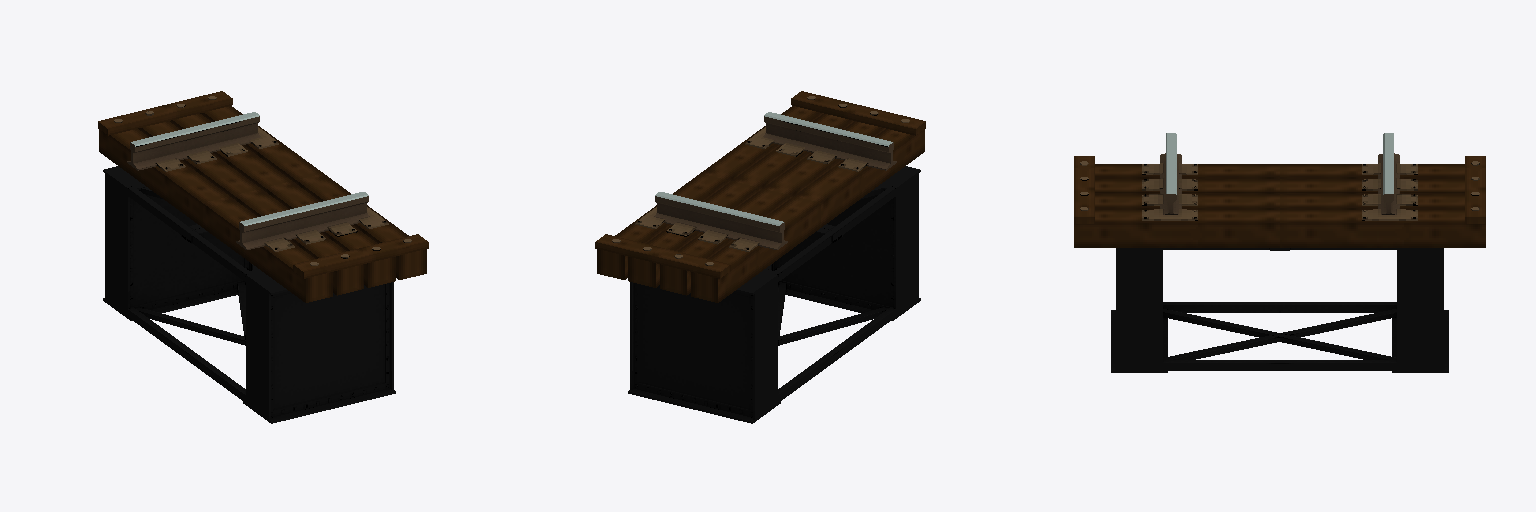
The picture shows the model from 3 angles: view 1: azimuth 30°, elevation 25°; view 2: azimuth 150°, elevation 25°; view 3: azimuth 270°, elevation 25°; orthographic projection.
Parts seen in each view (by area): view 1: RAIL_BASE_Cube.001, RAIL_BASE.001, RAIL_RIGHT_Cube.010, RAIL_LEFT_Cube.002, RAIL_BASE.003_Cube.004, RAIL_BASE.005_Cube.003, RAIL_BASE.002_Cube.005; view 2: RAIL_BASE_Cube.001, RAIL_BASE.001, RAIL_LEFT_Cube.002, RAIL_RIGHT_Cube.010, RAIL_BASE.003_Cube.004, RAIL_BASE.005_Cube.003, RAIL_BASE.002_Cube.005; view 3: RAIL_BASE.001, RAIL_BASE_Cube.001, RAIL_BASE.003_Cube.004, RAIL_BASE.005_Cube.003, RAIL_BASE.002_Cube.005, RAIL_LEFT_Cube.002, RAIL_RIGHT_Cube.010.
Boxes of the visible parts, x1=… form: RAIL_BASE_Cube.001: x1=103, y1=166, x2=395, y2=423; RAIL_BASE.001: x1=98, y1=91, x2=428, y2=302; RAIL_RIGHT_Cube.010: x1=127, y1=112, x2=260, y2=170; RAIL_LEFT_Cube.002: x1=236, y1=192, x2=369, y2=249; RAIL_BASE.003_Cube.004: x1=128, y1=186, x2=252, y2=402; RAIL_BASE.005_Cube.003: x1=156, y1=127, x2=388, y2=251; RAIL_BASE.002_Cube.005: x1=136, y1=187, x2=257, y2=345; RAIL_BASE_Cube.001: x1=628, y1=166, x2=920, y2=423; RAIL_BASE.001: x1=595, y1=91, x2=925, y2=302; RAIL_LEFT_Cube.002: x1=763, y1=112, x2=896, y2=170; RAIL_RIGHT_Cube.010: x1=654, y1=192, x2=787, y2=249; RAIL_BASE.003_Cube.004: x1=771, y1=186, x2=895, y2=402; RAIL_BASE.005_Cube.003: x1=635, y1=127, x2=867, y2=251; RAIL_BASE.002_Cube.005: x1=766, y1=187, x2=888, y2=345; RAIL_BASE.001: x1=1074, y1=156, x2=1485, y2=247; RAIL_BASE_Cube.001: x1=1111, y1=248, x2=1448, y2=372; RAIL_BASE.003_Cube.004: x1=1163, y1=248, x2=1396, y2=370; RAIL_BASE.005_Cube.003: x1=1142, y1=163, x2=1417, y2=220; RAIL_BASE.002_Cube.005: x1=1163, y1=309, x2=1396, y2=359; RAIL_LEFT_Cube.002: x1=1160, y1=133, x2=1181, y2=214; RAIL_RIGHT_Cube.010: x1=1378, y1=133, x2=1399, y2=214.
Bounding box in the file's own units: 1.11 × 1.37 × 2.86.
3 materials, 2 textured.